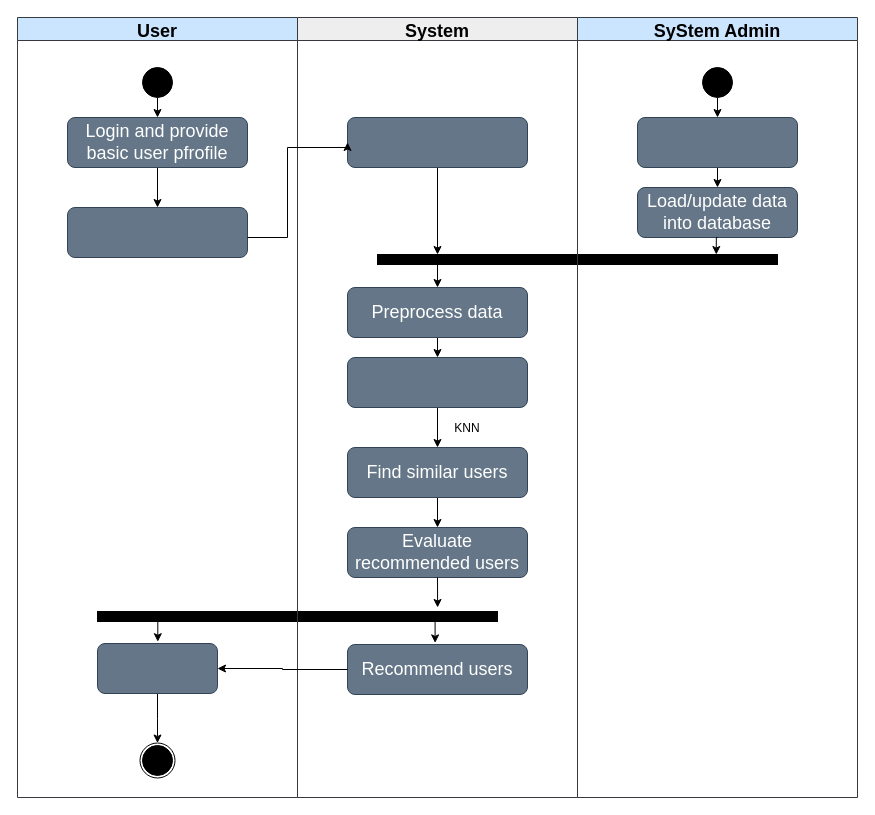
This 875x815 diagram has some shape labels left out. Each missing label, with the centre of its shape:
"Collect required data" goes at point (717, 142).
"Extract features from processed data" goes at point (437, 382).
"Fill in Personality questionaire" goes at point (157, 232).
"Obtain user-provided data" goes at point (437, 142).
"Show recommended users" goes at point (157, 668).
